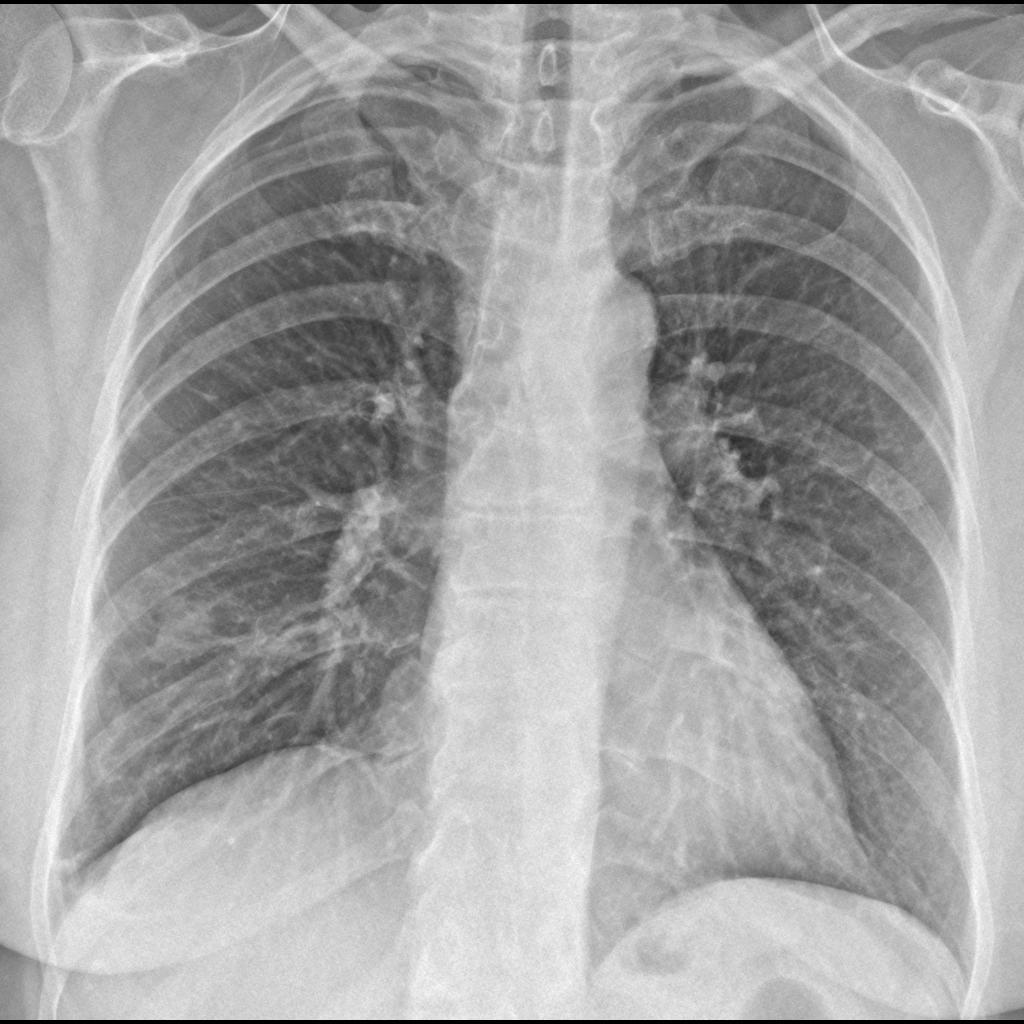Nodule: (148, 577, 223, 664)
